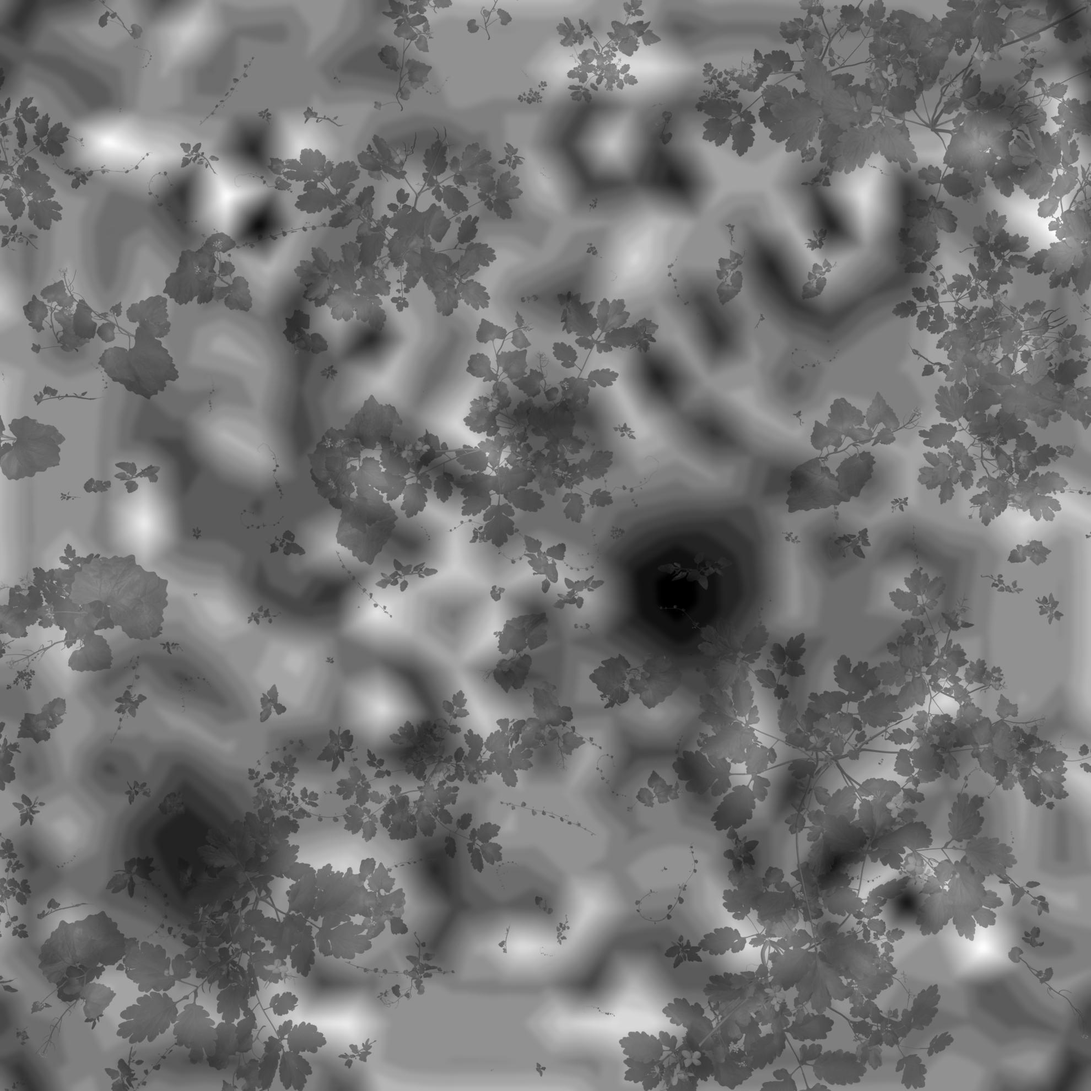landmine: (614, 529, 743, 647), (120, 791, 245, 905)
